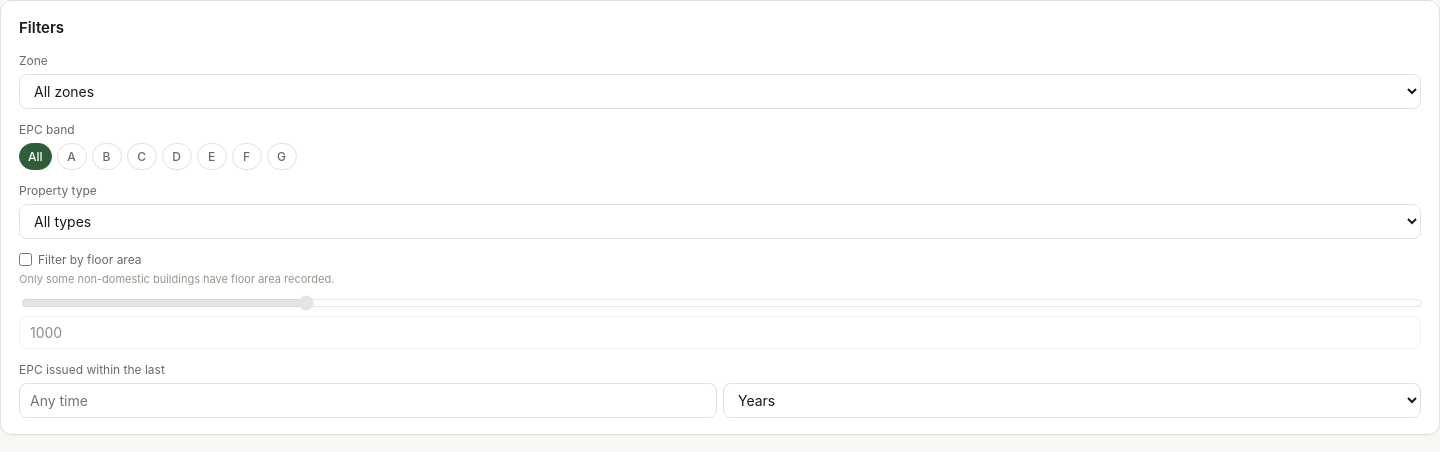
Scenario: FilterPanel › keeps the slider and number input in sync with each other, once enabled
Click the checkbox labelled "Filter by floor area".
click(26, 260)  # box [19,253,32,266]
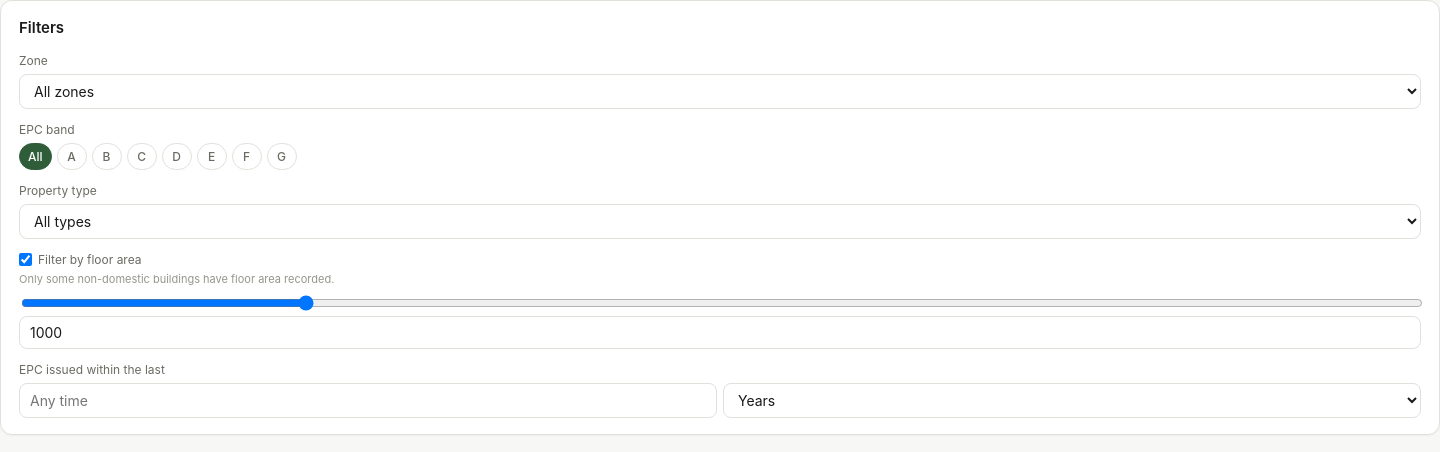
Expected: the 1st number field holds "1000", [19,316,1421,349]
Set the slider to "2500" at {"x": 722, "y": 303}, box [21,295,1423,311]
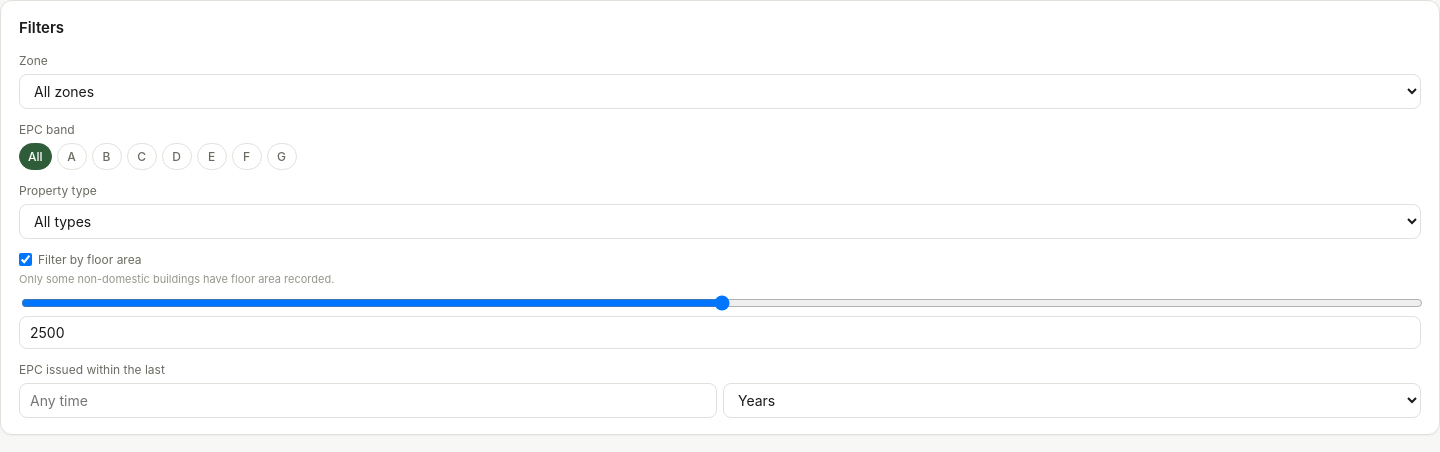
Expected: the 1st number field holds "2500"
Replace the text in the 1st number field with "3000" at {"x": 720, "y": 332}, box [19,316,1421,349]
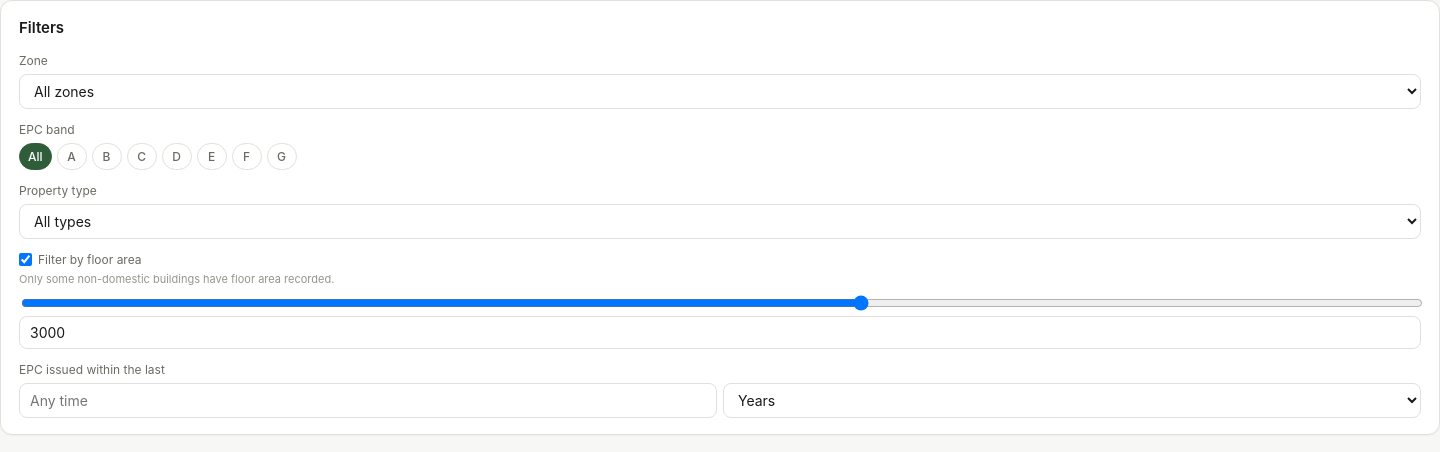
Expected: the slider holds "3000", [21,295,1423,311]
